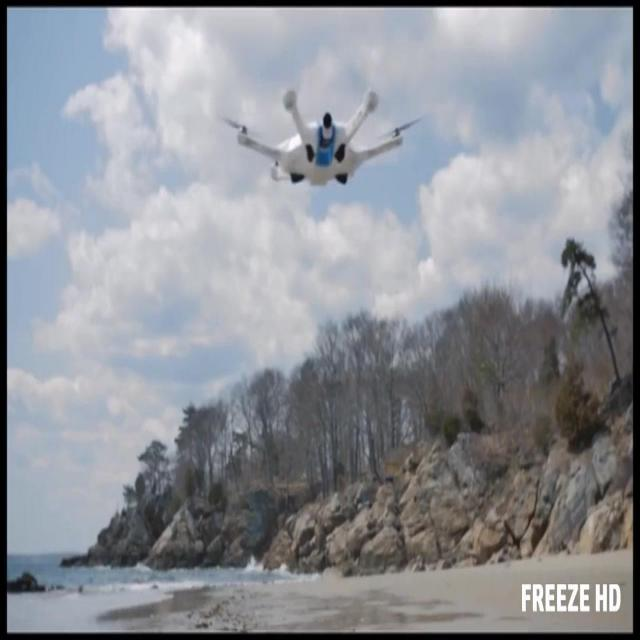UAV: (235, 87, 407, 192)
